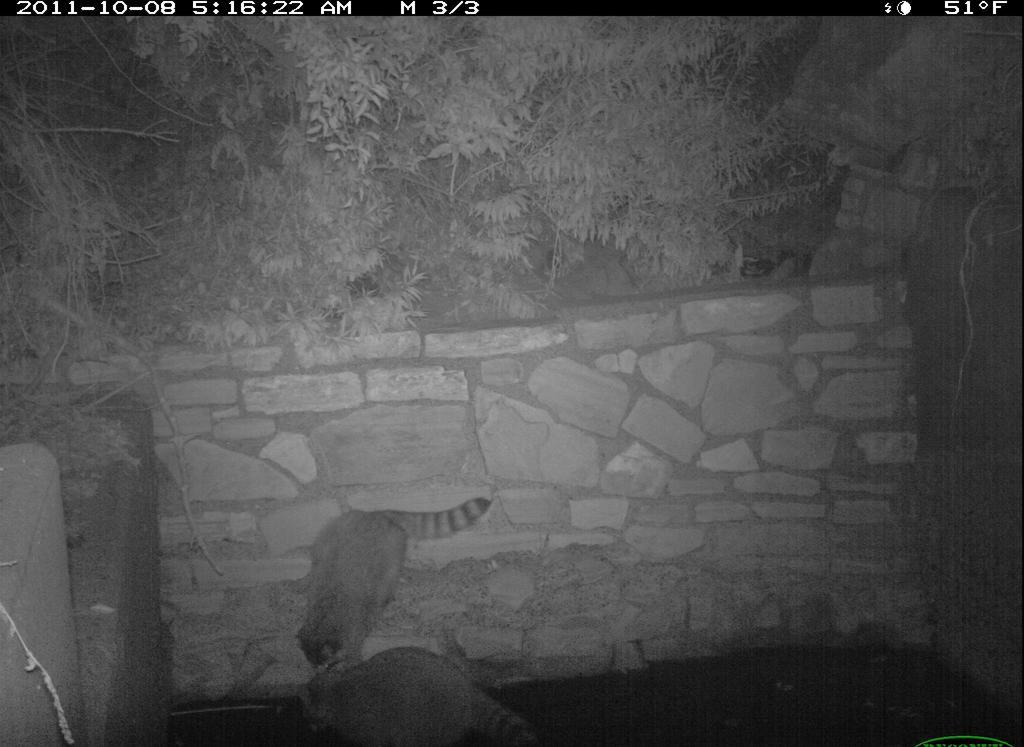raccoon: (287, 489, 501, 655), (286, 639, 539, 738)
